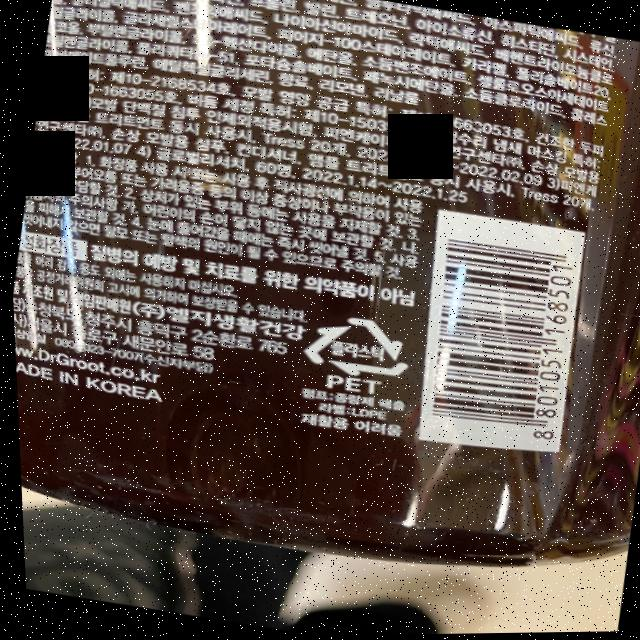Plastic: (293, 305, 417, 387)
